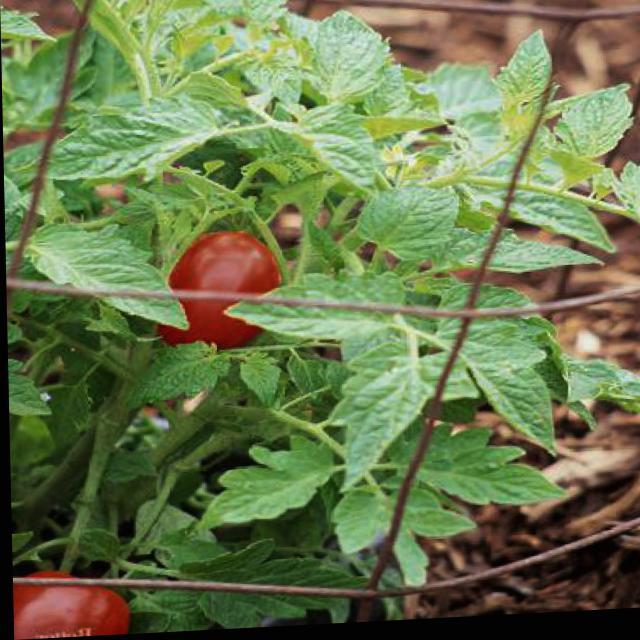Tomato bacterial spot leaf: (6, 212, 184, 338), (414, 319, 560, 468), (320, 336, 454, 487), (15, 102, 224, 194), (165, 542, 365, 632), (413, 423, 571, 518), (199, 440, 349, 539), (485, 174, 619, 266), (230, 282, 395, 348), (290, 12, 398, 112), (362, 181, 460, 271), (119, 338, 238, 412), (552, 92, 633, 169), (500, 34, 568, 125)
